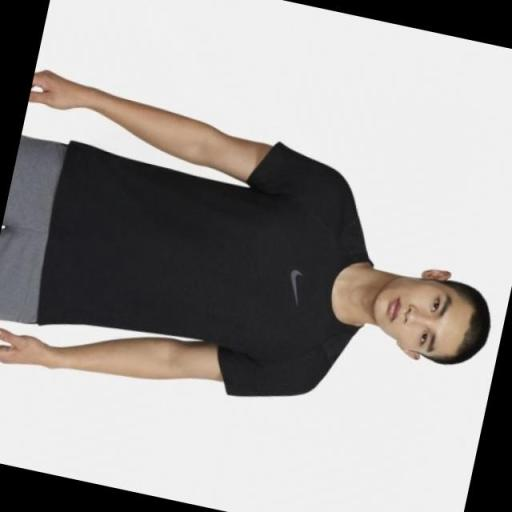Nike: (274, 262, 311, 313)
